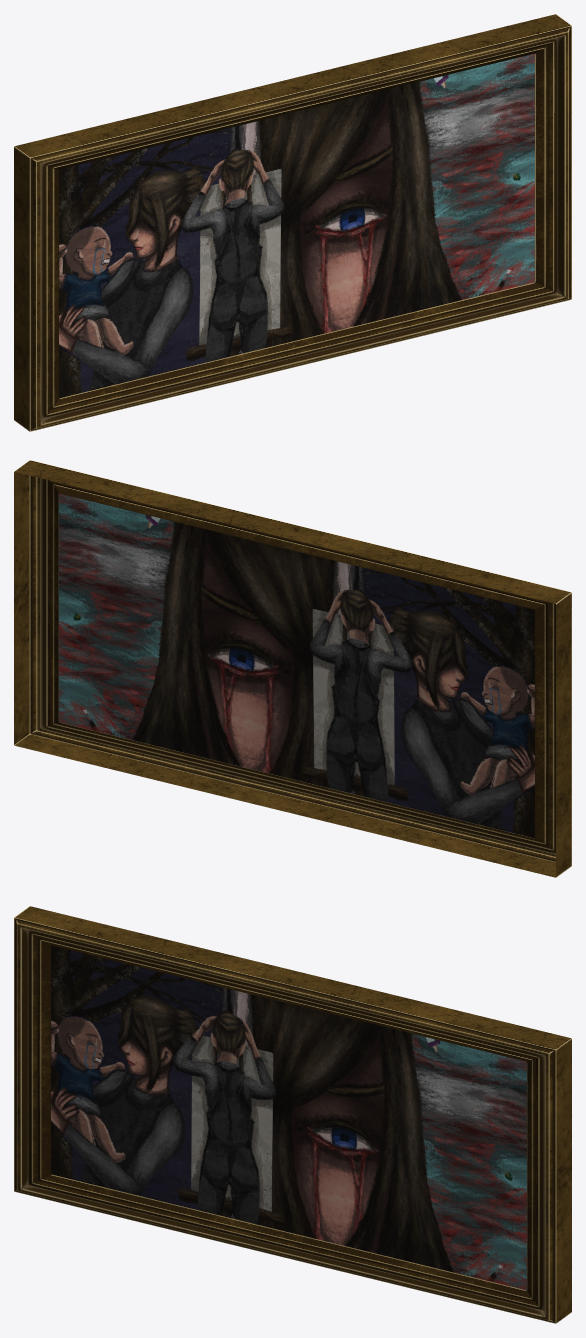
Rendered from FIXED-true-painting-combined.fbx.
The picture shows the model from 3 angles, top to bottom: view 1: azimuth 30°, elevation 25°; view 2: azimuth 150°, elevation 25°; view 3: azimuth 330°, elevation 25°; orthographic projection.
Parts seen in each view (by area): view 1: painting_Var2_19; view 2: painting_Var2_19; view 3: painting_Var2_19.
Part boxes in pixels (<box>): painting_Var2_19: <box>14,14,571,431</box>; painting_Var2_19: <box>14,460,571,877</box>; painting_Var2_19: <box>14,906,571,1323</box>.
Bounding box in the file's own units: 657 × 317 × 37.94.
Materials: 2 (2 with a texture image).
